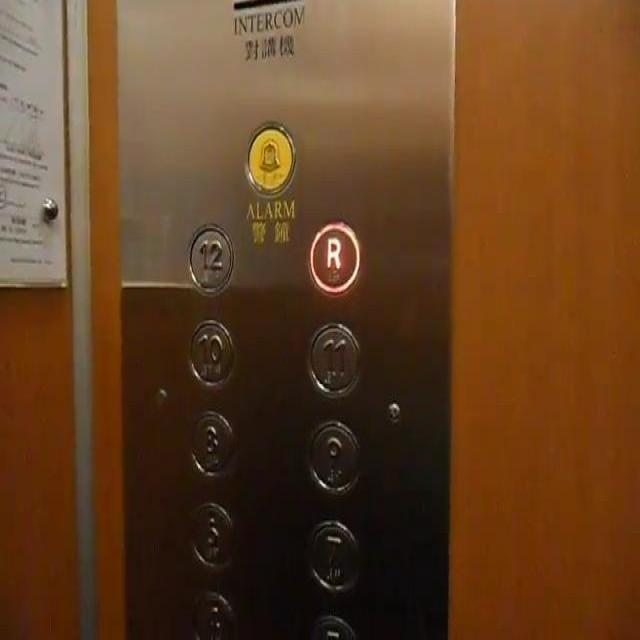10: (186, 317, 233, 384)
11: (306, 321, 360, 395)
12: (186, 221, 233, 291)
7: (306, 516, 360, 591)
8: (188, 408, 235, 477)
9: (307, 420, 359, 492)
R: (305, 220, 360, 295)
alarm: (243, 118, 295, 198)
blur: (186, 499, 234, 569)
